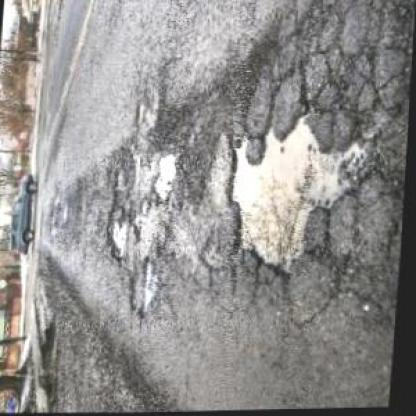pothole: (218, 101, 376, 286), (131, 255, 162, 319), (104, 206, 132, 264), (152, 150, 182, 204), (127, 201, 150, 246), (134, 100, 146, 125)
